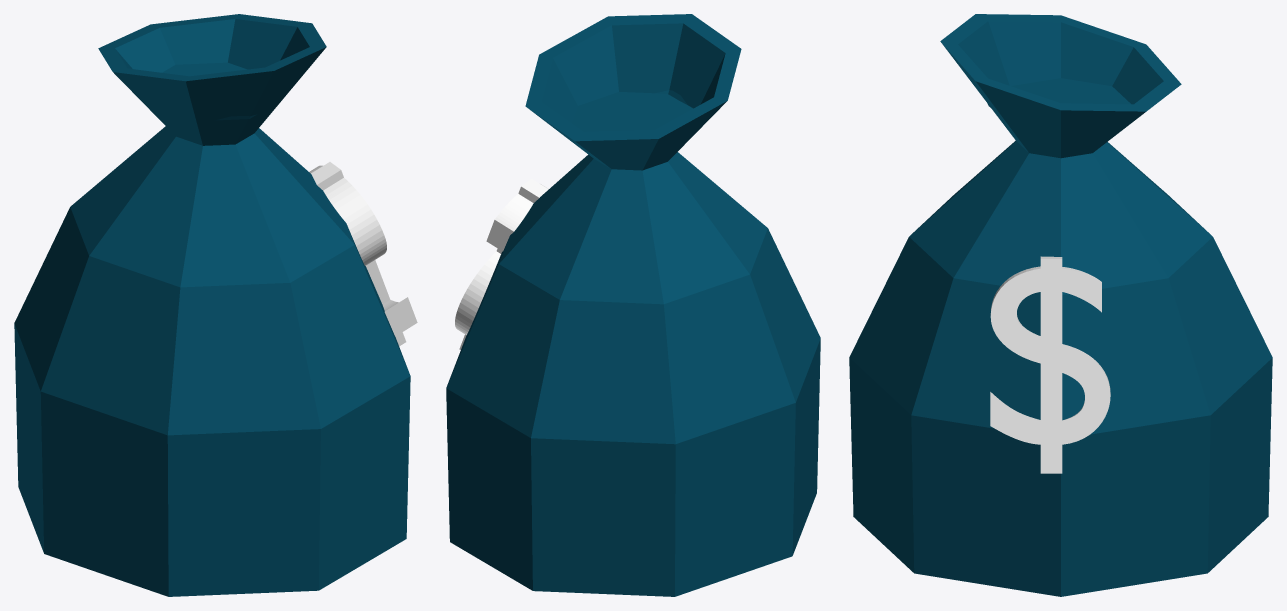
Rendered from Cash.glb.
The picture shows the model from 3 angles, left to right: view 1: azimuth 30°, elevation 25°; view 2: azimuth 150°, elevation 25°; view 3: azimuth 270°, elevation 25°; orthographic projection. The views are drawn at different scales.
Parts seen in each view (by area): view 1: Text; view 2: Text; view 3: Text.
Boxes of the visible parts, x1,y1,x2,y2 form: Text: (14, 14, 417, 596); Text: (446, 14, 820, 596); Text: (849, 14, 1272, 596).
Bounding box in the file's own units: 0.8766 × 1.15 × 0.9276.
